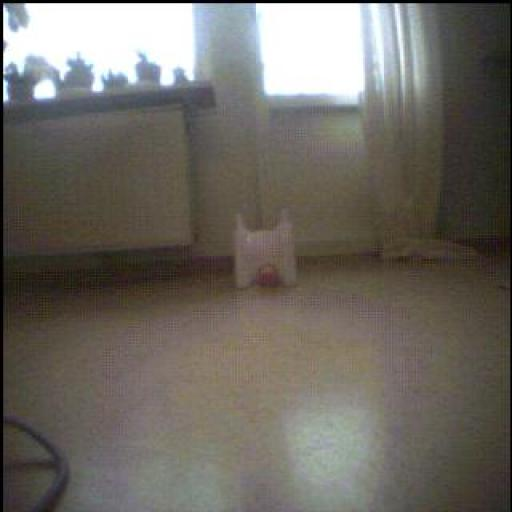Basket: (252, 262, 288, 292)
